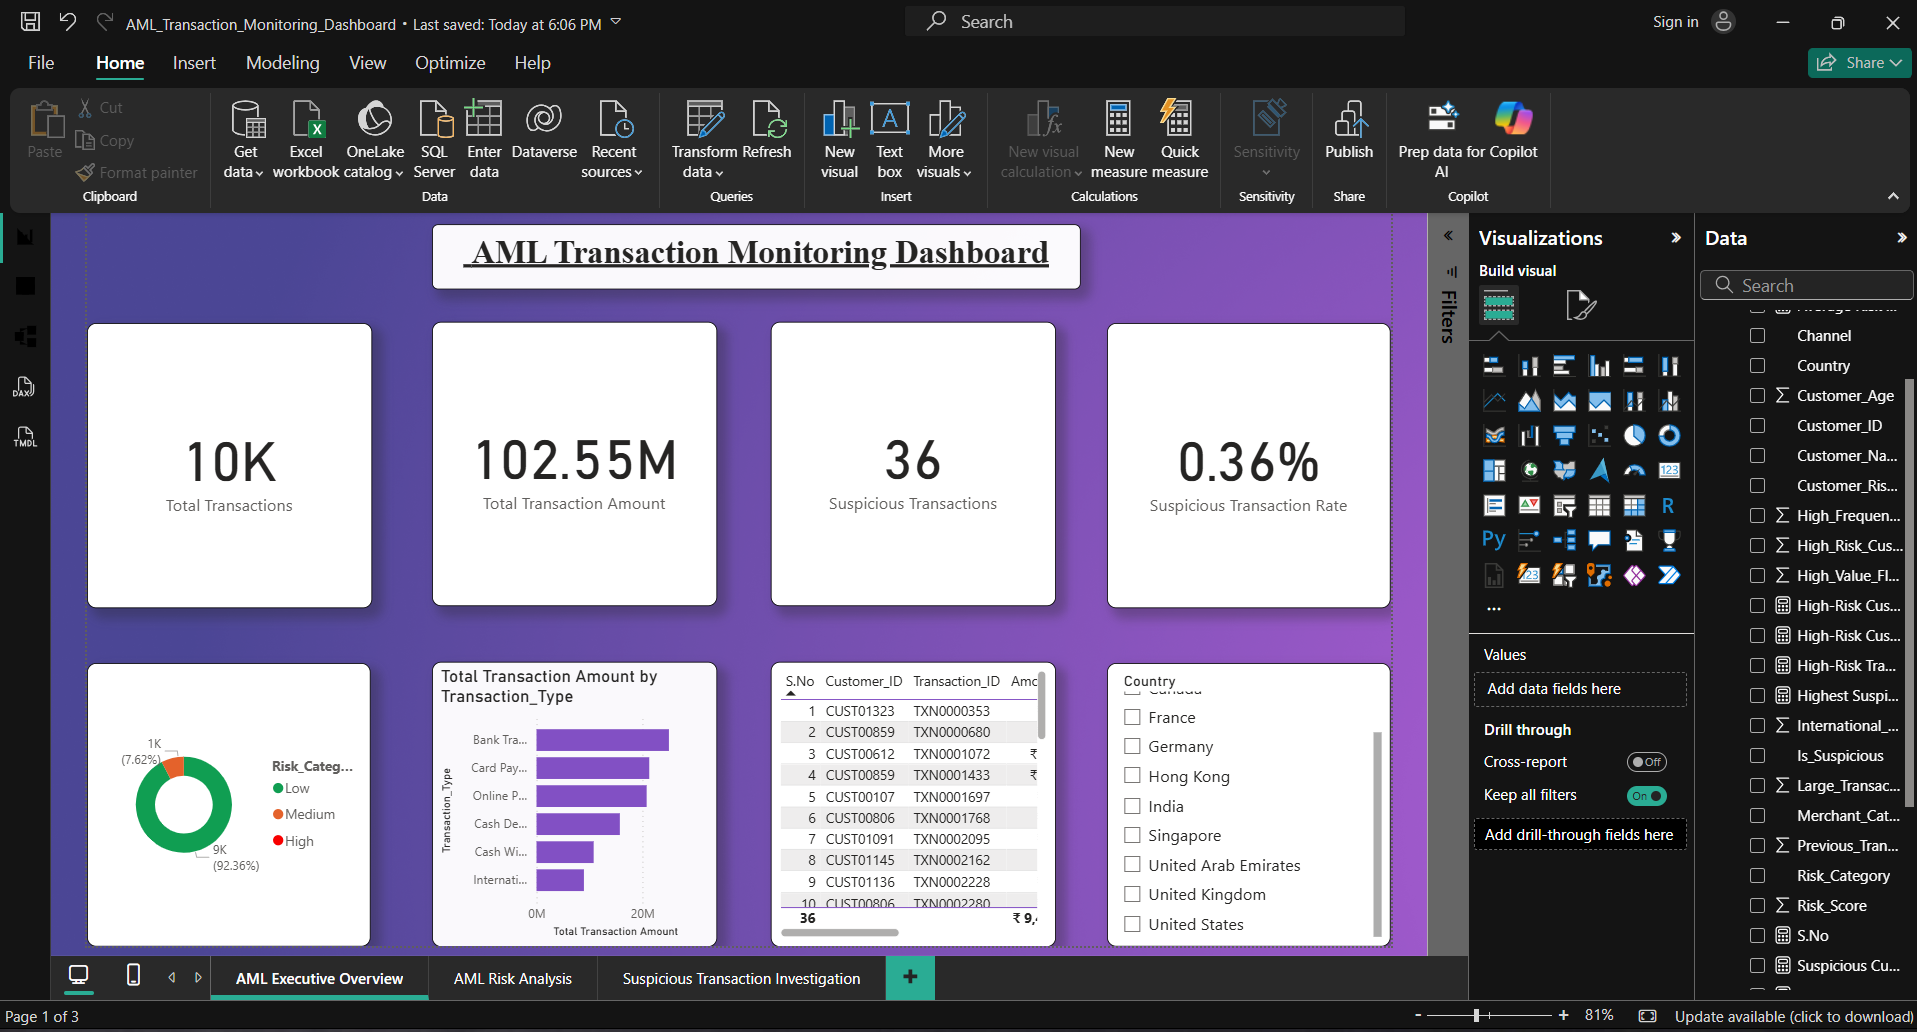

This screenshot's page, from the dashboard's own definition file:
{"tool":"powerbi","page":{"name":"AML Executive Overview","canvas":[1280,720],"ordinal":0},"visuals":[{"type":"card","fields":{"Values":["aml_transactions.Total Transactions"]},"box":[0,108,279.8,279.8],"z":0},{"type":"card","fields":{"Values":["aml_transactions.Total Transaction Amount"]},"box":[338.7,106.7,279.8,279],"z":1000},{"type":"card","fields":{"Values":["aml_transactions.Suspicious Transactions"]},"box":[671.2,106.7,279.8,279],"z":2000},{"type":"donutChart","fields":{"Category":["aml_transactions.Risk_Category"],"Y":["aml_transactions.Total Transactions"]},"box":[0,441.9,278.6,278.6],"z":3000},{"type":"clusteredBarChart","fields":{"Category":["aml_transactions.Transaction_Type"],"Y":["aml_transactions.Total Transaction Amount"]},"box":[338.7,440.5,279.8,279.8],"z":4000},{"type":"tableEx","fields":{"Values":["aml_transactions.S.No","aml_transactions.Customer_ID","aml_transactions.Transaction_ID","Sum(aml_transactions.Transaction_Amount)","aml_transactions.Transaction_Type","aml_transactions.Risk_Category"]},"box":[671.2,440.5,279.8,279.8],"z":5000},{"type":"textbox","box":[338.7,11,636.8,63.8],"z":6000},{"type":"slicer","fields":{"Values":["aml_transactions.Country"]},"box":[1001.2,441.7,278.5,278.5],"z":7000},{"type":"card","fields":{"Values":["aml_transactions.Suspicious Transaction Rate"]},"box":[1001.2,108,278.5,279.8],"z":8000}]}

Visuals, with their boxes on the page's 1280x720 design canvas (x1, y1, x2, y2). These are canvas units, not pixel positions in the 1917x1032 screenshot, which may show the page scaled, cropped or inside an application window:
card - aml_transactions.Total Transactions: [x1=0, y1=108, x2=280, y2=388]
card - aml_transactions.Total Transaction Amount: [x1=339, y1=107, x2=618, y2=386]
card - aml_transactions.Suspicious Transactions: [x1=671, y1=107, x2=951, y2=386]
donutChart - aml_transactions.Risk_Category x aml_transactions.Total Transactions: [x1=0, y1=442, x2=279, y2=720]
clusteredBarChart - aml_transactions.Transaction_Type x aml_transactions.Total Transaction Amount: [x1=339, y1=440, x2=618, y2=720]
tableEx - aml_transactions.S.No x aml_transactions.Customer_ID: [x1=671, y1=440, x2=951, y2=720]
textbox: [x1=339, y1=11, x2=976, y2=75]
slicer - aml_transactions.Country: [x1=1001, y1=442, x2=1280, y2=720]
card - aml_transactions.Suspicious Transaction Rate: [x1=1001, y1=108, x2=1280, y2=388]
